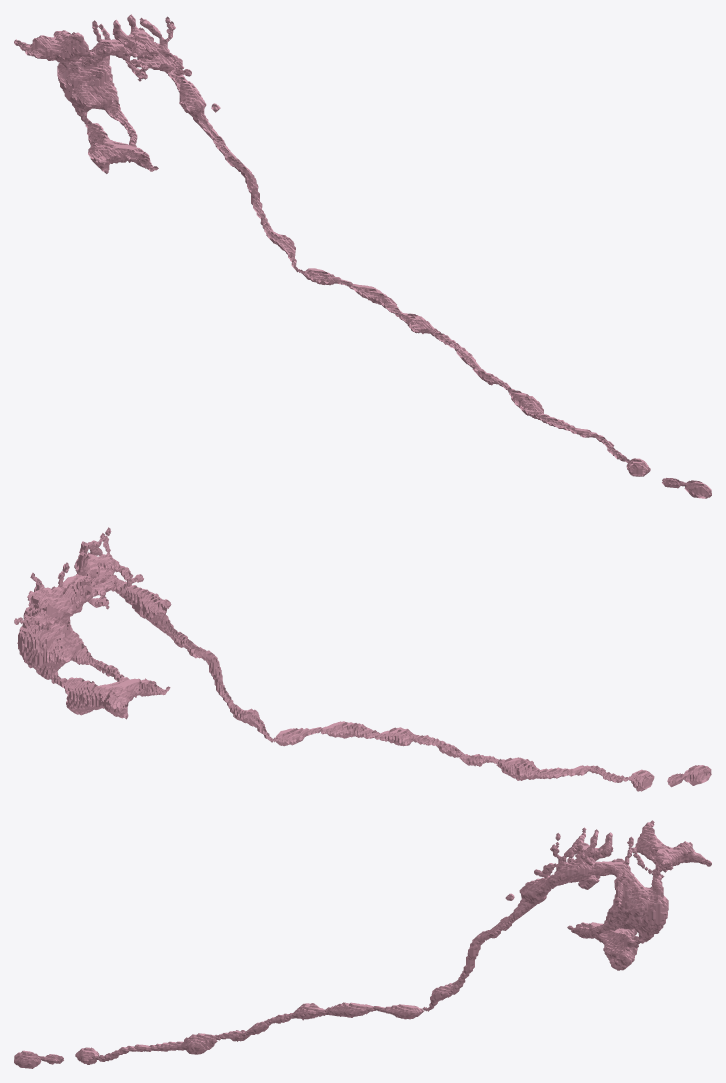
Rendered from SVV_RMGR.gltf.
The picture shows the model from 3 angles, top to bottom: view 1: azimuth 90°, elevation 25°; view 2: azimuth 150°, elevation 25°; view 3: azimuth 270°, elevation 25°; orthographic projection. The views are drawn at different scales.
Visible parts, largest first — view 1: RMGR; view 2: RMGR; view 3: RMGR.
Part boxes in pixels (box(x1,y1,x2,y2)): RMGR: box(14, 14, 711, 498); RMGR: box(14, 527, 711, 791); RMGR: box(14, 820, 711, 1068).
Bounding box in the file's own units: 104801 × 121348 × 213036.
